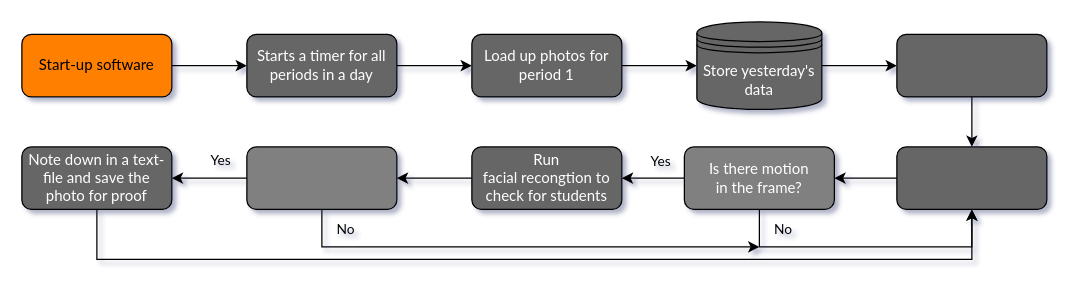
Some shapes in this 1076 by 299 pixel diagram are drawn without their labels. Here are the shapes that lost their labels. From the top down, the centre of each, then its label:
the point at 971,65: Activate the camera
the point at 321,177: Does it reconize a students face?
the point at 971,177: Get a new frame from the camera
